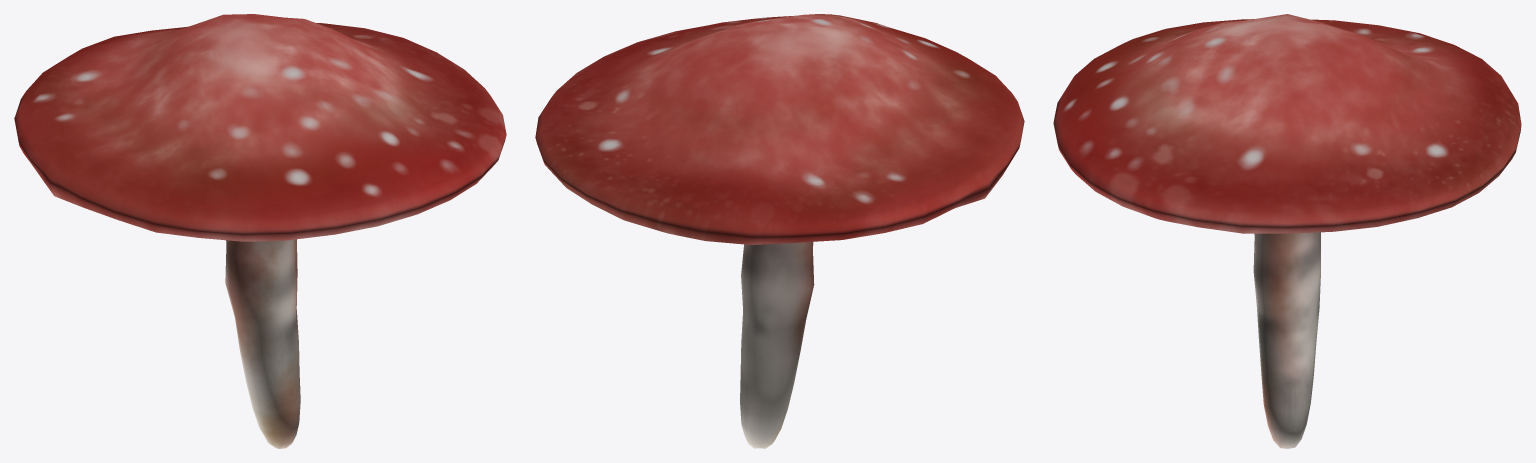
File: md_mushroom_02_v3.fbx
The picture shows the model from 3 angles, left to right: view 1: azimuth 30°, elevation 25°; view 2: azimuth 150°, elevation 25°; view 3: azimuth 270°, elevation 25°; orthographic projection. The views are drawn at different scales.
Parts seen in each view (by area): view 1: Mushroom02; view 2: Mushroom02; view 3: Mushroom02.
Part boxes in pixels (x1=…): Mushroom02: x1=14, y1=14, x2=506, y2=448; Mushroom02: x1=535, y1=14, x2=1024, y2=448; Mushroom02: x1=1053, y1=14, x2=1521, y2=448.
Size of the model in its own units: 20.99 by 20.09 by 20.91.
1 material, 1 textured.
